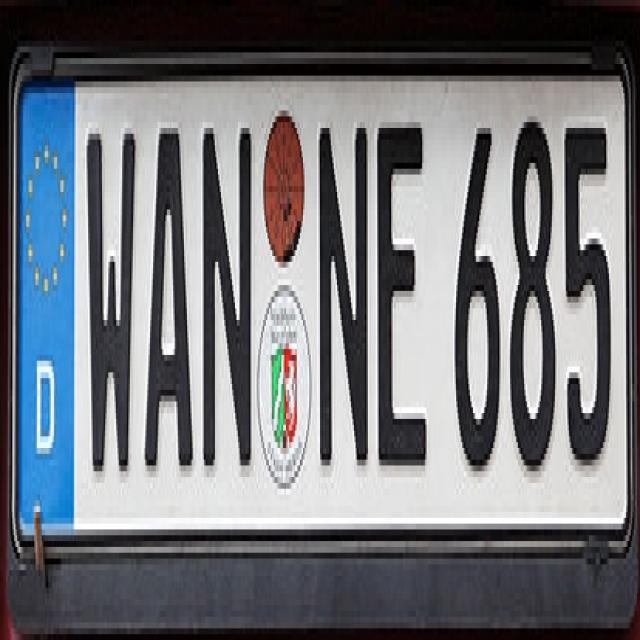Allemagne: (16, 72, 76, 545)
EU: (6, 46, 633, 558)
